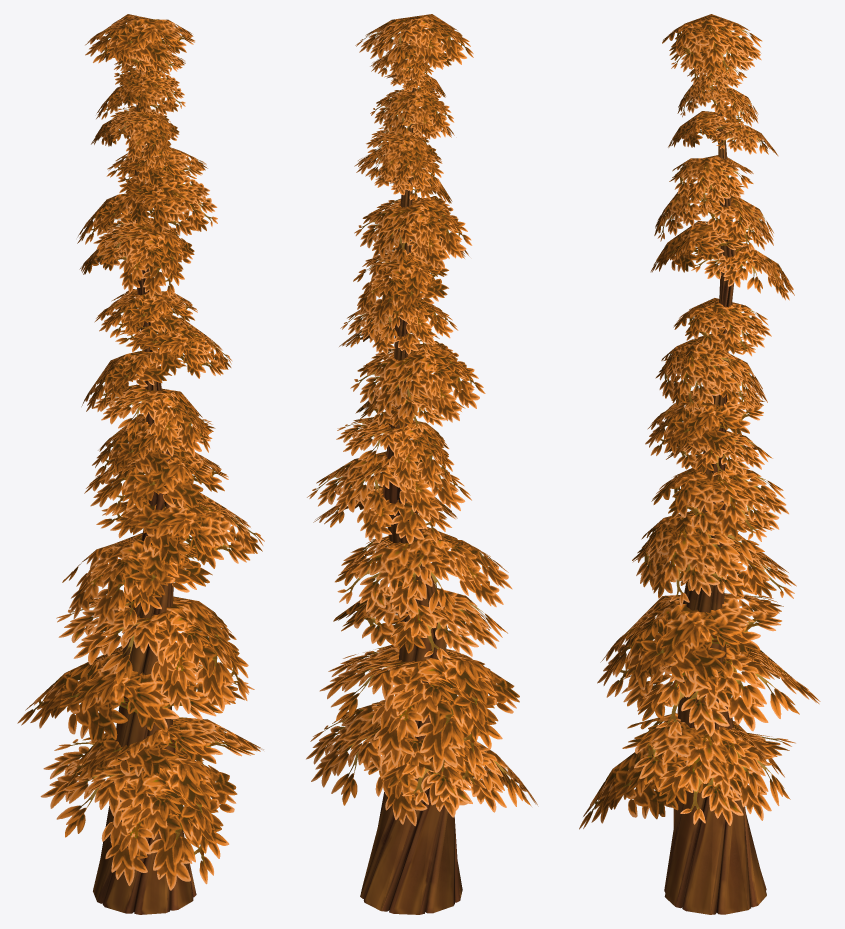
File: 8_Cafe.fbx
The picture shows the model from 3 angles, left to right: view 1: azimuth 30°, elevation 25°; view 2: azimuth 150°, elevation 25°; view 3: azimuth 270°, elevation 25°; orthographic projection.
Parts seen in each view (by area): view 1: 8_Cafe; view 2: 8_Cafe; view 3: 8_Cafe.
Part boxes in pixels (box(x1,y1,x2,y2)): 8_Cafe: box(17, 14, 264, 914); 8_Cafe: box(306, 14, 538, 914); 8_Cafe: box(579, 14, 820, 914).
Size of the model in its own units: 735 by 2730 by 727.
